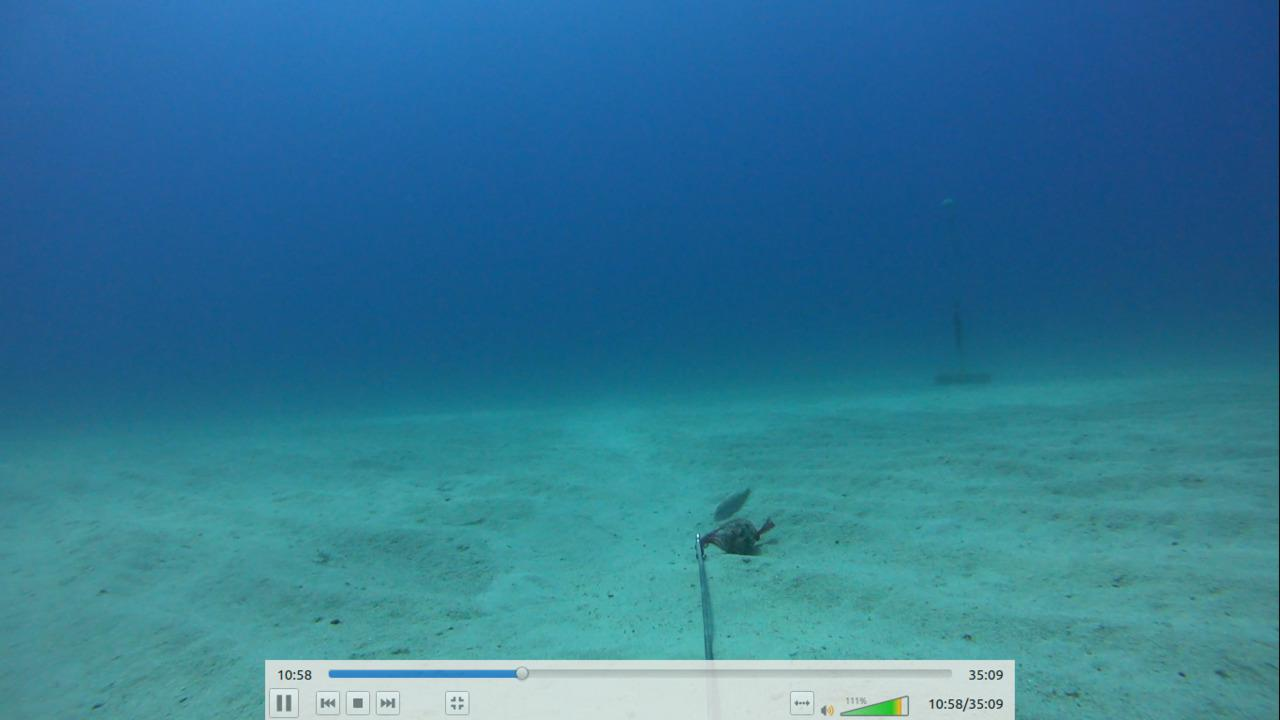raor: (704, 477, 758, 521)
